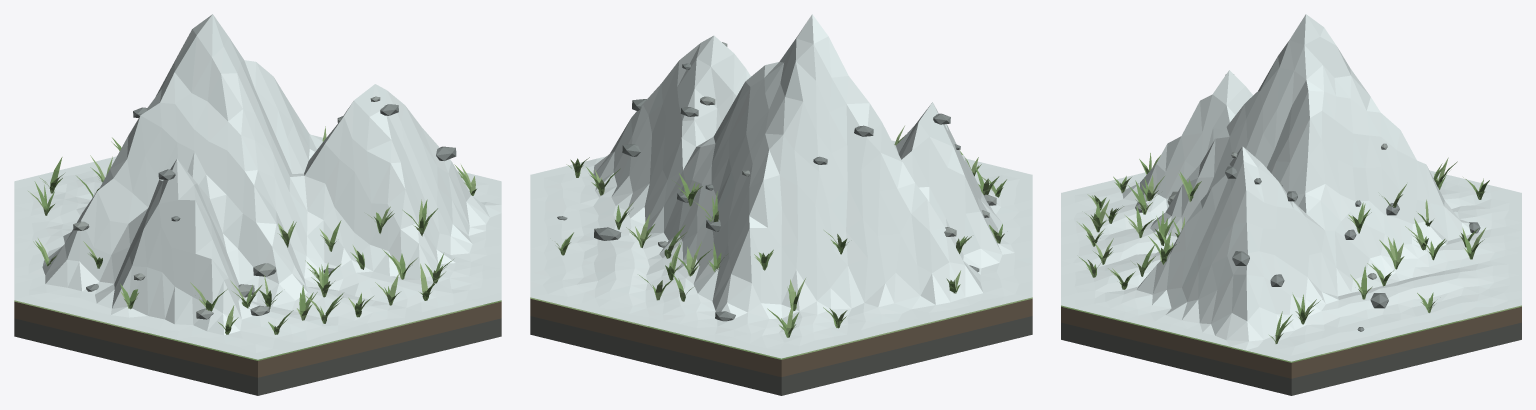
Rendered from rocky-mountain.glb.
3 views of the same model, side by side, from view 1: azimuth 30°, elevation 25°; view 2: azimuth 150°, elevation 25°; view 3: azimuth 270°, elevation 25° (orthographic). The views are drawn at different scales.
Visible parts, largest first — view 1: SnowZone.010_mesh, LandformRoot_mesh, SnowZone.009_mesh, SnowZone.011_mesh, SnowZone.008_mesh, SnowZone.006_mesh, SnowZone.007_mesh, SnowZone.005_mesh, SnowZone.004_mesh, SnowZone.003_mesh, SnowZone.002_mesh, SnowZone.001_mesh; view 2: SnowZone.010_mesh, LandformRoot_mesh, SnowZone.009_mesh, SnowZone.011_mesh, SnowZone.007_mesh, SnowZone.008_mesh, SnowZone.006_mesh, SnowZone.005_mesh, SnowZone.004_mesh, SnowZone.003_mesh, SnowZone.002_mesh, SnowZone.001_mesh (+1 smaller); view 3: SnowZone.010_mesh, LandformRoot_mesh, SnowZone.009_mesh, SnowZone.011_mesh, SnowZone.006_mesh, SnowZone.008_mesh, SnowZone.007_mesh, SnowZone.005_mesh, SnowZone.004_mesh, SnowZone.003_mesh, SnowZone.002_mesh, SnowZone_mesh (+1 smaller).
Boxes of the visible parts, box(x1,y1,x2,y2) form: SnowZone.010_mesh: box(27, 162, 489, 352); LandformRoot_mesh: box(14, 96, 501, 395); SnowZone.009_mesh: box(14, 135, 501, 359); SnowZone.011_mesh: box(28, 167, 488, 348); SnowZone.008_mesh: box(81, 127, 438, 258); SnowZone.006_mesh: box(110, 77, 420, 220); SnowZone.007_mesh: box(97, 106, 422, 238); SnowZone.005_mesh: box(127, 62, 405, 184); SnowZone.004_mesh: box(140, 58, 386, 139); SnowZone.003_mesh: box(162, 36, 258, 113); SnowZone.002_mesh: box(174, 34, 243, 92); SnowZone.001_mesh: box(175, 14, 240, 62); SnowZone.010_mesh: box(543, 134, 1020, 349); LandformRoot_mesh: box(530, 42, 1032, 395); SnowZone.009_mesh: box(530, 104, 1032, 358); SnowZone.011_mesh: box(543, 160, 1002, 343); SnowZone.007_mesh: box(661, 60, 953, 241); SnowZone.008_mesh: box(633, 83, 966, 268); SnowZone.006_mesh: box(677, 59, 953, 208); SnowZone.005_mesh: box(677, 43, 932, 185); SnowZone.004_mesh: box(694, 36, 881, 149); SnowZone.003_mesh: box(697, 35, 848, 134); SnowZone.002_mesh: box(765, 37, 848, 101); SnowZone.001_mesh: box(796, 36, 831, 80); SnowZone.010_mesh: box(1072, 144, 1510, 346); LandformRoot_mesh: box(1061, 74, 1521, 395); SnowZone.009_mesh: box(1061, 136, 1521, 361); SnowZone.011_mesh: box(1073, 164, 1508, 355); SnowZone.006_mesh: box(1200, 86, 1400, 233); SnowZone.008_mesh: box(1181, 127, 1399, 276); SnowZone.007_mesh: box(1181, 95, 1416, 250); SnowZone.005_mesh: box(1212, 70, 1369, 210); SnowZone.004_mesh: box(1230, 58, 1380, 181); SnowZone.003_mesh: box(1242, 56, 1369, 167); SnowZone.002_mesh: box(1278, 37, 1350, 90); SnowZone_mesh: box(1289, 14, 1336, 45).
Bounding box in the file's own units: 3.5 × 1.83 × 3.03.
